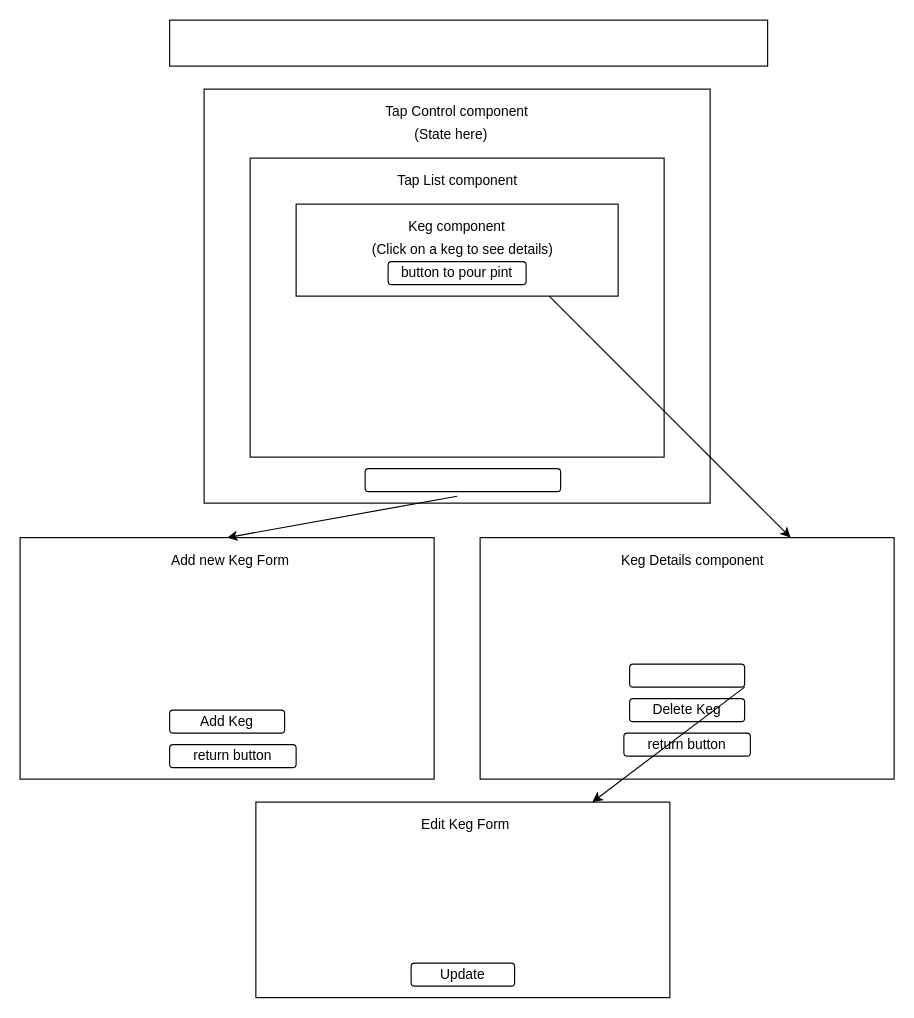
Image size: 914x1018. Some labels were removed from this diagram. The centre of each missing label's shape, as x and y in pixels:
Button to add new keg: [462,479]
Edit Keg: [686,675]
Header component: [468,42]
